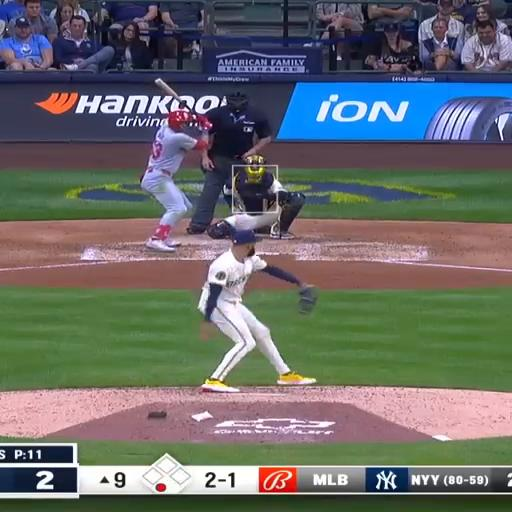bat: (154, 78, 192, 111)
